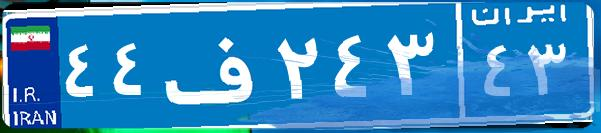2: (273, 28, 330, 110)
3: (385, 28, 445, 110), (525, 38, 570, 115)
4: (330, 28, 385, 110), (57, 26, 110, 107), (475, 38, 525, 113), (110, 28, 158, 105)
ف: (158, 15, 273, 115)
